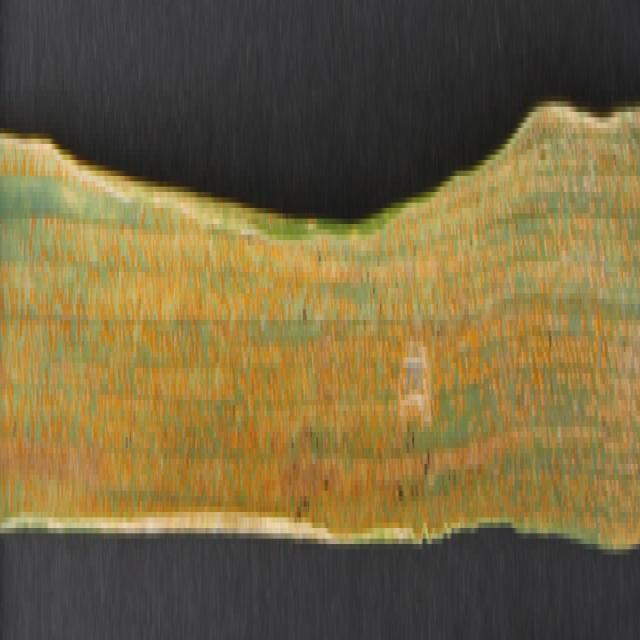leaf rust: (1, 107, 639, 549)
